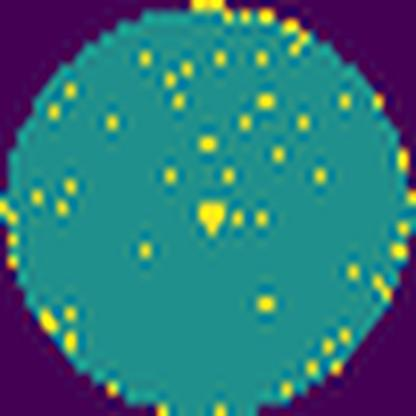Center: (197, 199, 227, 240)
